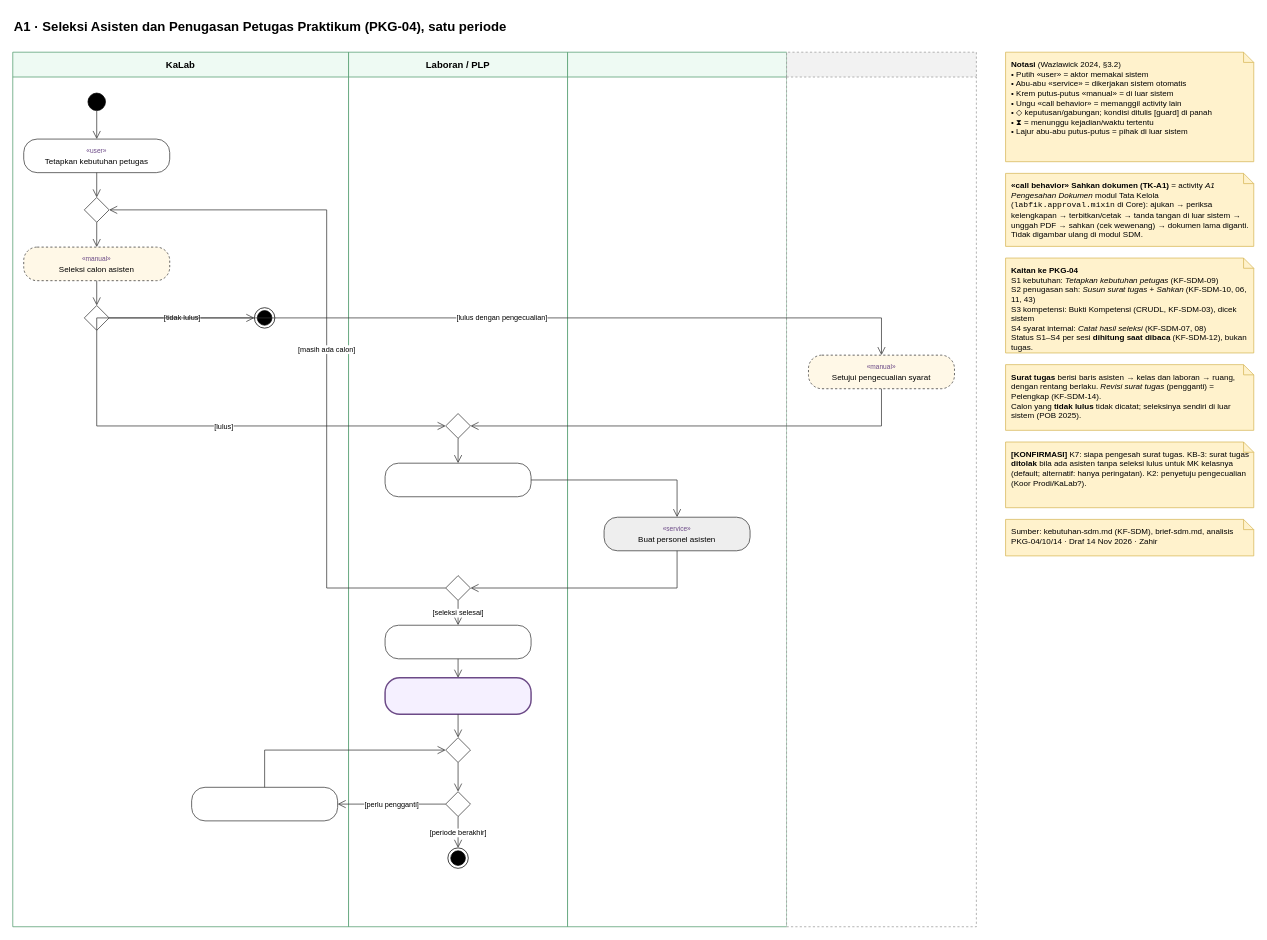
This 1267x940 diagram has some shape labels left out. Each missing label, with the box of its shape:
Penyetuju pengecualian (di luar sistem): (786, 51, 976, 927)
Sistem: (567, 51, 787, 927)
«call behavior» Sahkan dokumen (TK-A1): (384, 677, 531, 715)
«user» Buat revisi surat tugas: (191, 787, 338, 821)
«user» Catat hasil seleksi: (384, 462, 531, 497)
«user» Susun surat tugas: (384, 625, 531, 659)
